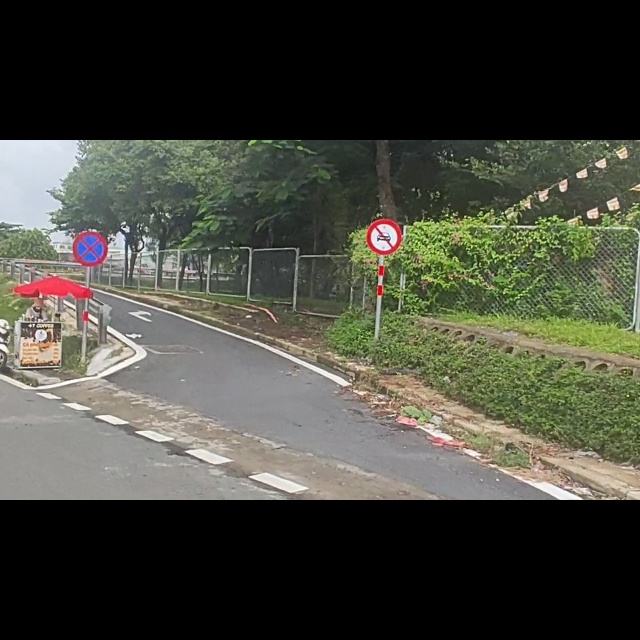bien_cam: (72, 162, 109, 230), (367, 139, 402, 204)
